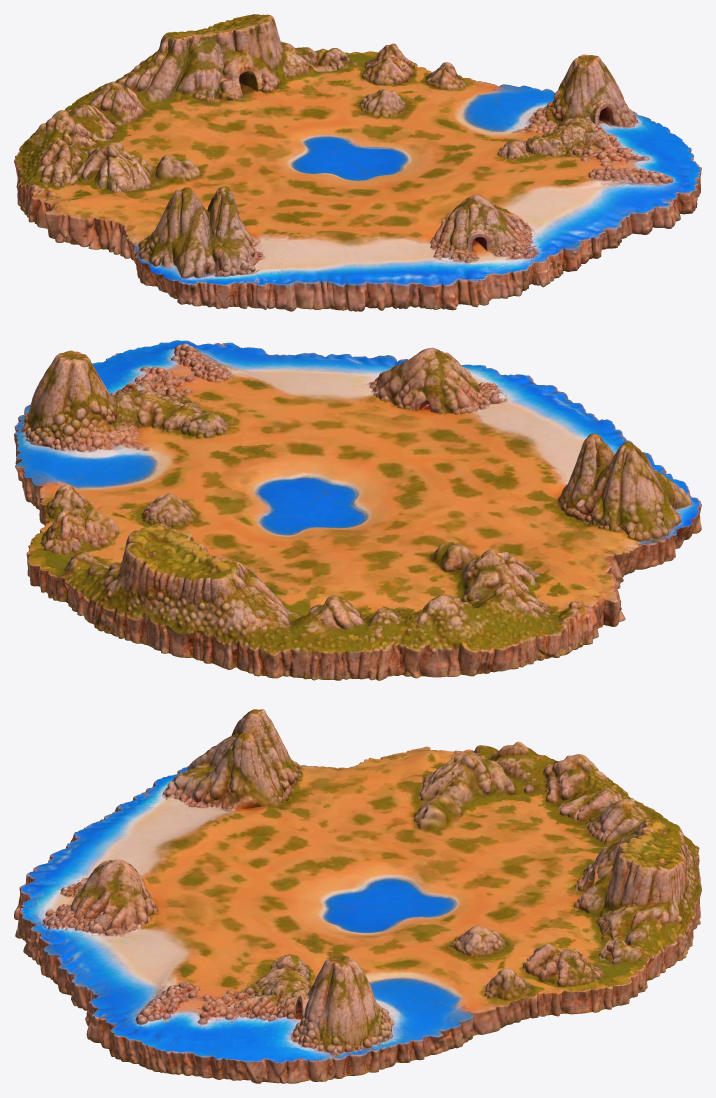
The model's file is rio-wasteland-iconic.glb.
The picture shows the model from 3 angles, top to bottom: view 1: azimuth 30°, elevation 25°; view 2: azimuth 150°, elevation 25°; view 3: azimuth 270°, elevation 25°; orthographic projection. The views are drawn at different scales.
Bounding box in the file's own units: 1.9 × 0.2868 × 1.77.
Materials: 1 (1 with a texture image).
